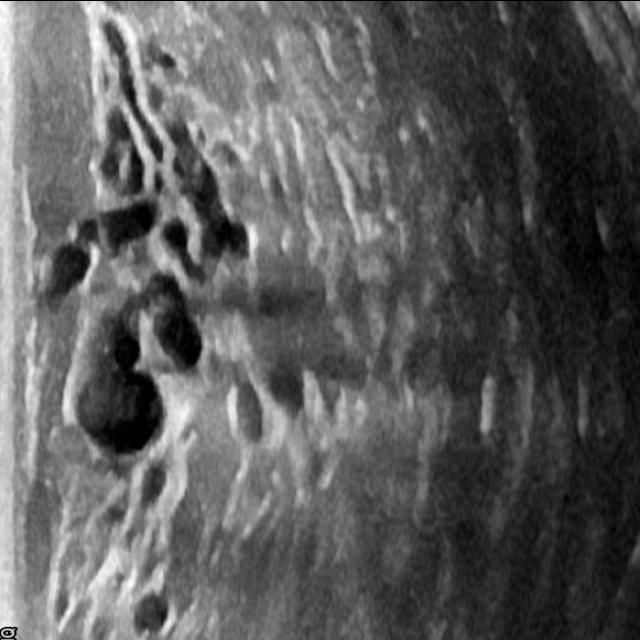Benign: (71, 360, 169, 456)
